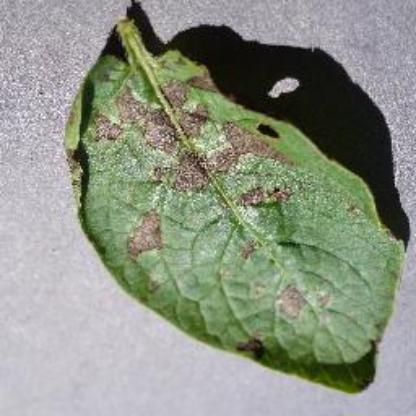Early-Blight: (56, 16, 402, 396)
